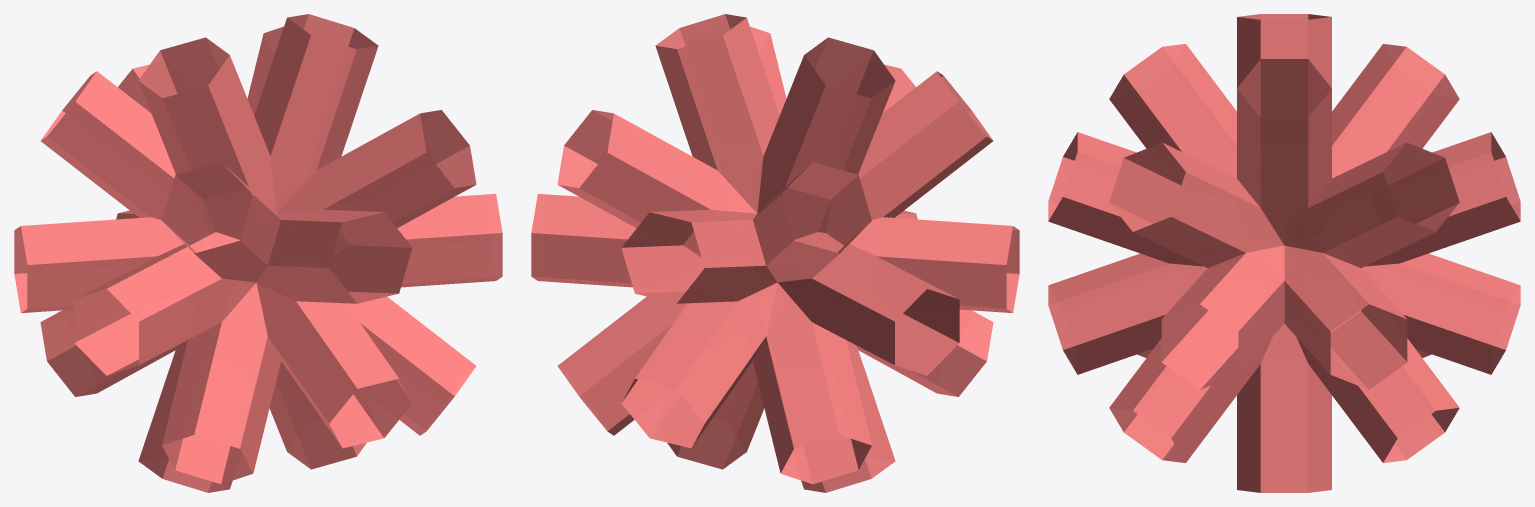
Rendered from GreatDodecahemicosacron.obj.
The picture shows the model from 3 angles, left to right: view 1: azimuth 30°, elevation 25°; view 2: azimuth 150°, elevation 25°; view 3: azimuth 270°, elevation 25°; orthographic projection.
Bounding box in the file's own units: 9.96 × 9.96 × 9.96.
